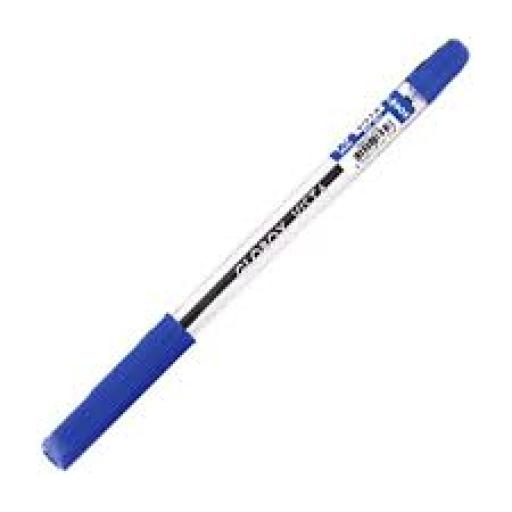tukenmez-kalem: (32, 26, 488, 482)
